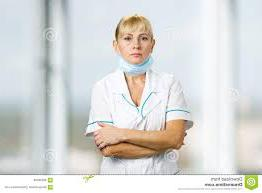mask_weared_incorrect: (118, 33, 152, 70)
